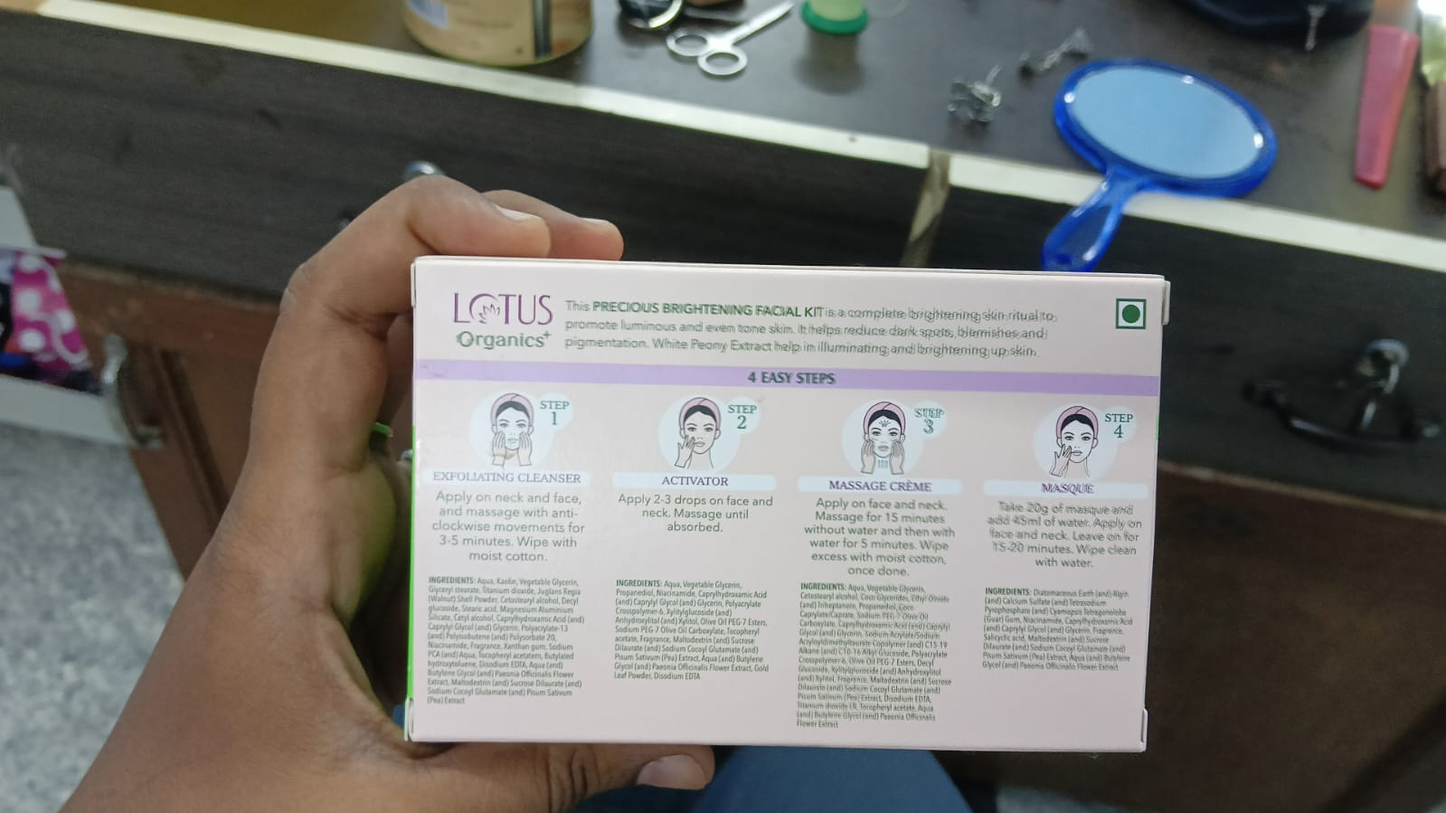brand_panel: (432, 287, 560, 355)
